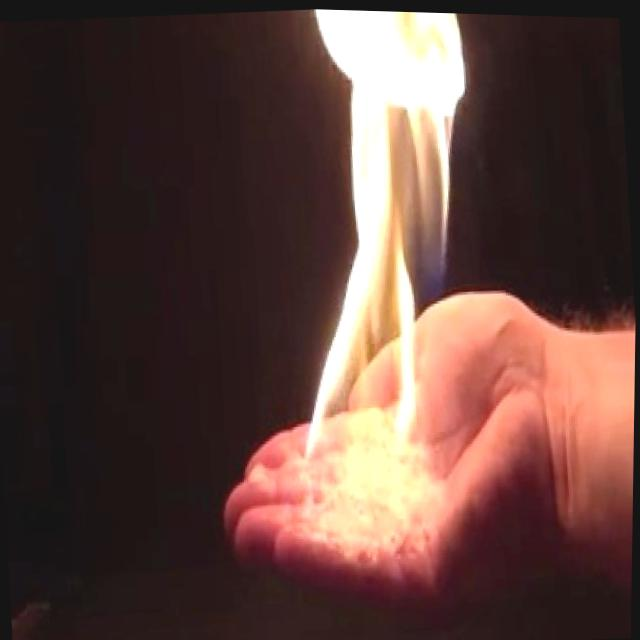Fire: (262, 6, 502, 539)
